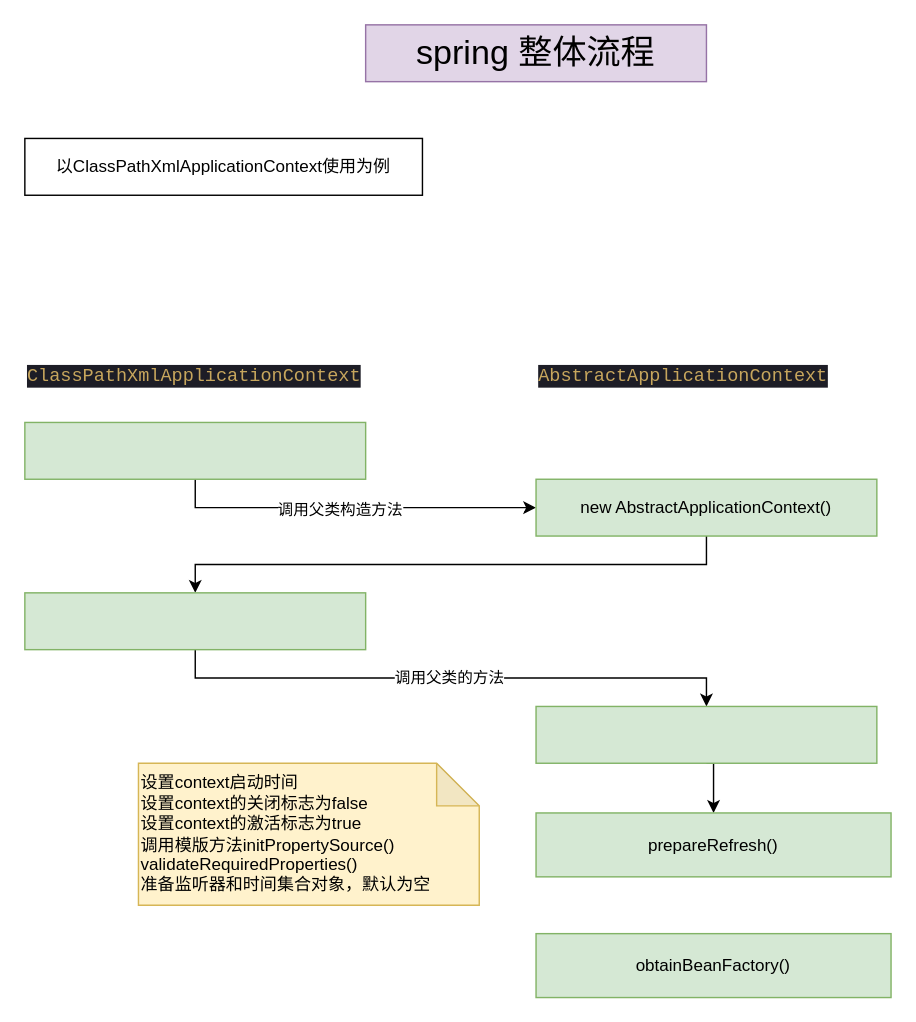
This 916x1022 diagram has some shape labels left out. The shapes that lost their labels are listed below. From the top down, each one's centre as x and y in pixels, then its label:
point (194, 450): new ClassPathXmlAppliationContext()
point (194, 620): 设置配置文件路径，并获取环境对象解析配置文件占位符
point (706, 734): refresh()
